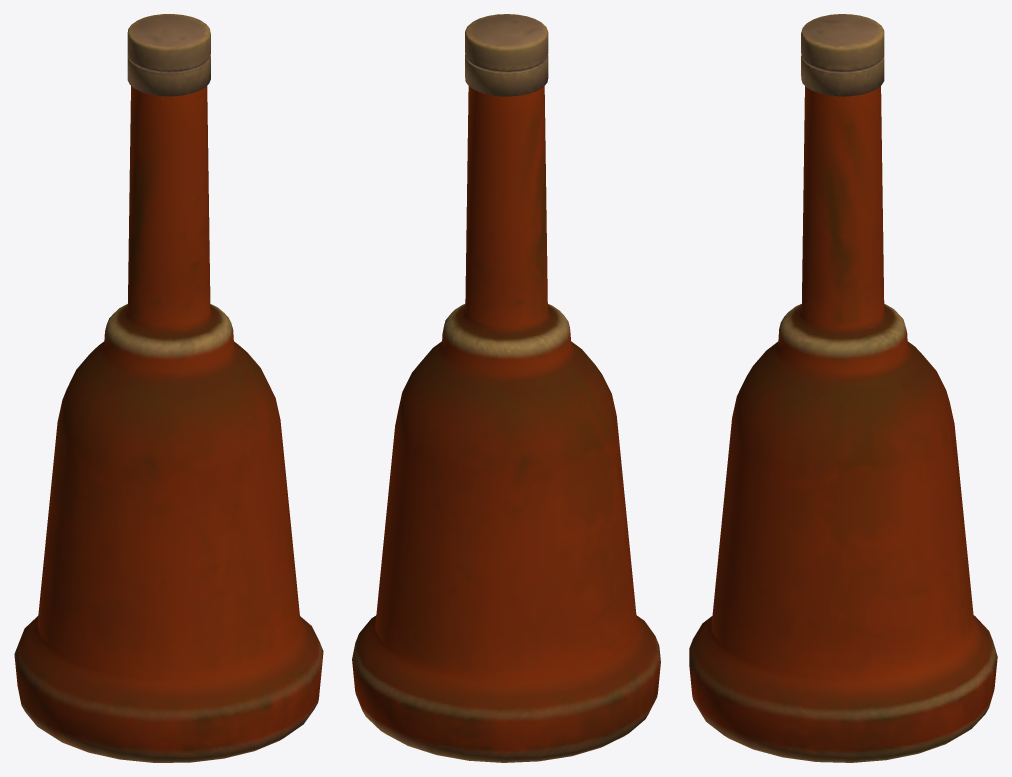
Rendered from SM_Bottle9.fbx.
The picture shows the model from 3 angles, left to right: view 1: azimuth 30°, elevation 25°; view 2: azimuth 150°, elevation 25°; view 3: azimuth 270°, elevation 25°; orthographic projection.
Parts seen in each view (by area): view 1: SM_Bottle9_LOD0; view 2: SM_Bottle9_LOD0; view 3: SM_Bottle9_LOD0.
Boxes of the visible parts, box(x1,y1,x2,y2) form: SM_Bottle9_LOD0: box(14, 14, 323, 762); SM_Bottle9_LOD0: box(352, 14, 660, 762); SM_Bottle9_LOD0: box(689, 14, 997, 762).
Size of the model in its own units: 13.3 by 13.27 by 32.03.
Materials: 1 (1 with a texture image).
